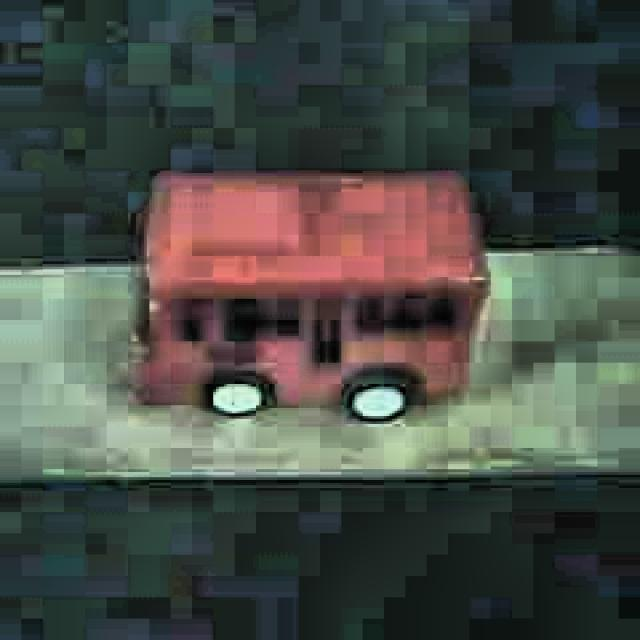bus: (133, 165, 493, 427)
